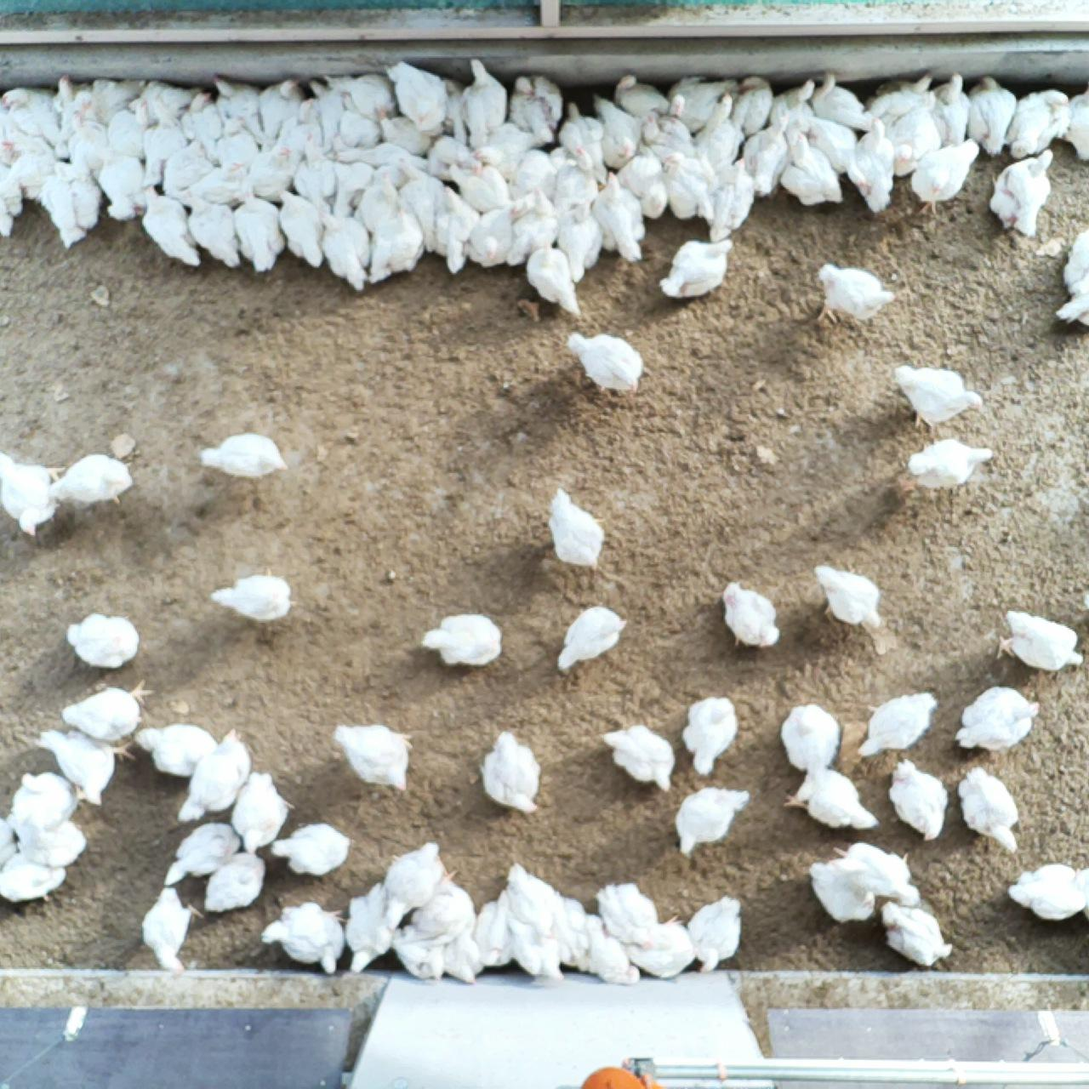chicken: (36, 725, 139, 808), (173, 725, 256, 826), (58, 670, 161, 744), (887, 362, 992, 433), (260, 898, 352, 975), (784, 763, 882, 835), (829, 837, 925, 910), (34, 158, 105, 252), (812, 259, 903, 331), (1, 770, 91, 842), (0, 131, 60, 238), (328, 721, 415, 792), (906, 139, 982, 220), (381, 836, 445, 932), (857, 687, 941, 760), (228, 769, 299, 855), (988, 147, 1056, 236), (366, 180, 423, 286), (871, 898, 957, 968), (203, 564, 300, 626), (478, 726, 544, 817), (996, 605, 1088, 670), (955, 684, 1044, 751), (0, 446, 64, 539), (954, 765, 1020, 855), (886, 755, 953, 843), (999, 85, 1076, 161), (566, 326, 647, 398), (739, 100, 796, 202), (141, 882, 204, 974), (568, 913, 644, 989), (676, 784, 754, 858), (599, 721, 679, 793), (542, 486, 608, 573), (903, 436, 1000, 495), (844, 115, 899, 218), (694, 159, 757, 248), (801, 111, 871, 191), (43, 452, 139, 510), (590, 172, 649, 266), (161, 817, 239, 888), (132, 718, 221, 780), (777, 129, 846, 208), (394, 160, 450, 257), (343, 881, 400, 976), (958, 72, 1019, 160), (458, 53, 511, 154), (811, 562, 887, 632), (657, 234, 736, 301), (61, 608, 145, 671), (507, 185, 570, 269), (140, 182, 203, 266), (1007, 860, 1089, 924), (553, 604, 629, 673), (197, 428, 294, 482), (684, 893, 747, 976), (383, 58, 447, 139), (0, 75, 68, 151), (420, 609, 506, 669), (805, 855, 879, 924), (205, 74, 276, 145), (884, 100, 945, 182), (332, 135, 430, 186), (502, 908, 566, 986), (466, 191, 527, 272), (689, 90, 748, 173), (505, 861, 565, 942), (139, 91, 189, 188), (681, 694, 740, 776), (779, 701, 846, 773), (864, 66, 940, 129), (591, 878, 659, 948), (551, 198, 607, 283), (317, 206, 373, 291), (662, 75, 740, 136), (625, 912, 696, 979), (433, 183, 483, 278), (271, 819, 355, 875), (409, 871, 477, 940), (718, 582, 785, 652), (100, 95, 160, 172), (15, 814, 93, 873), (470, 118, 544, 180), (231, 188, 284, 274), (810, 64, 875, 134), (522, 241, 581, 317), (185, 192, 243, 269), (587, 93, 644, 171), (289, 132, 343, 214), (200, 848, 267, 914), (555, 98, 607, 183), (94, 150, 153, 224), (506, 74, 566, 146), (661, 150, 721, 221), (275, 183, 325, 268), (48, 76, 98, 161), (614, 152, 670, 227), (70, 78, 147, 132), (925, 70, 976, 150), (441, 158, 509, 217), (176, 89, 228, 165), (178, 160, 253, 211), (728, 72, 781, 144), (239, 142, 302, 201), (124, 77, 201, 125), (385, 922, 446, 982), (636, 106, 698, 165), (767, 74, 819, 144), (326, 71, 396, 123), (0, 852, 67, 906), (468, 894, 516, 969), (160, 137, 219, 196), (608, 70, 673, 123), (258, 74, 306, 145), (549, 893, 593, 970), (270, 96, 325, 157), (303, 77, 352, 145), (549, 162, 604, 221), (423, 131, 484, 182), (334, 88, 383, 151), (436, 72, 476, 147), (64, 111, 107, 179), (374, 107, 432, 157), (331, 158, 377, 219), (212, 113, 259, 170), (1057, 85, 1089, 165), (441, 926, 482, 986), (507, 148, 559, 194), (1053, 278, 1089, 335), (1062, 225, 1089, 288), (0, 813, 20, 872)
